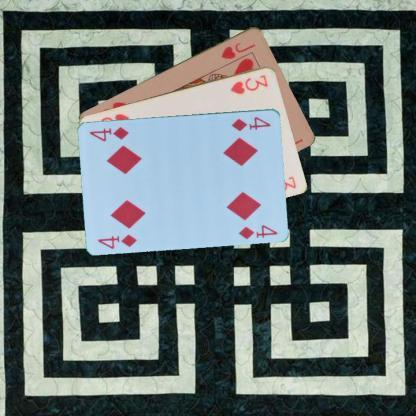3h: (228, 72, 270, 96)
4d: (95, 232, 139, 250), (230, 114, 272, 132)
Jh: (218, 39, 258, 60)
